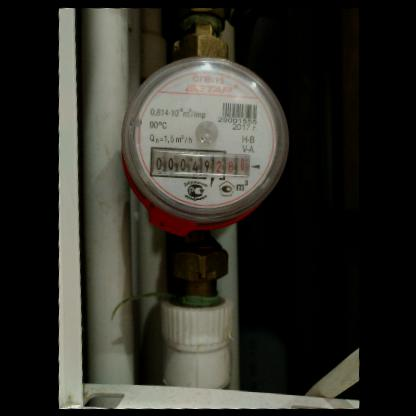digital_screen: (145, 145, 214, 180)
